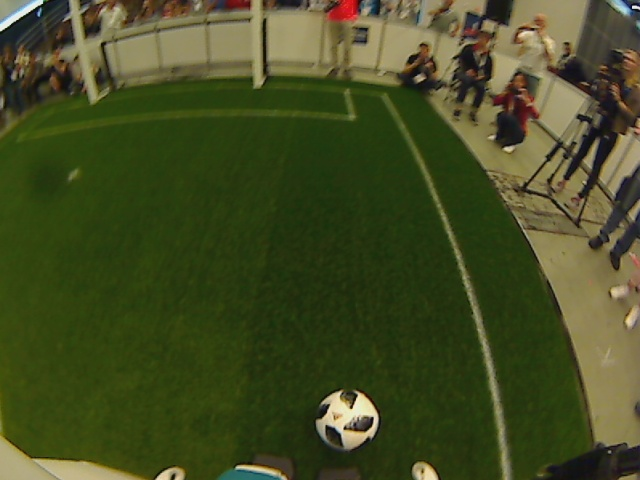ball: (313, 386, 381, 454)
